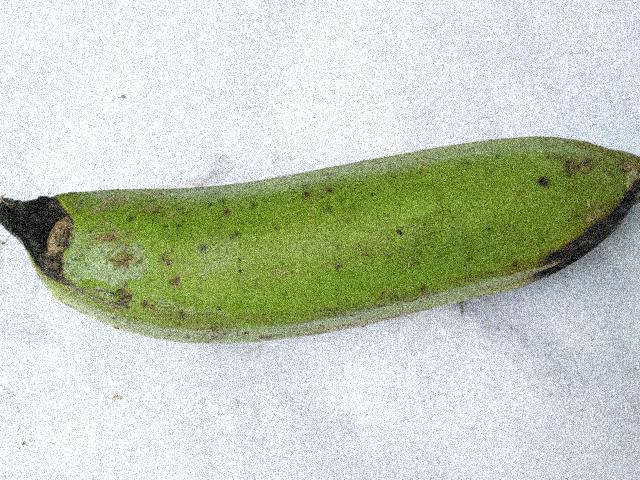rotten: (523, 167, 639, 303)
unripe: (55, 129, 639, 374)
